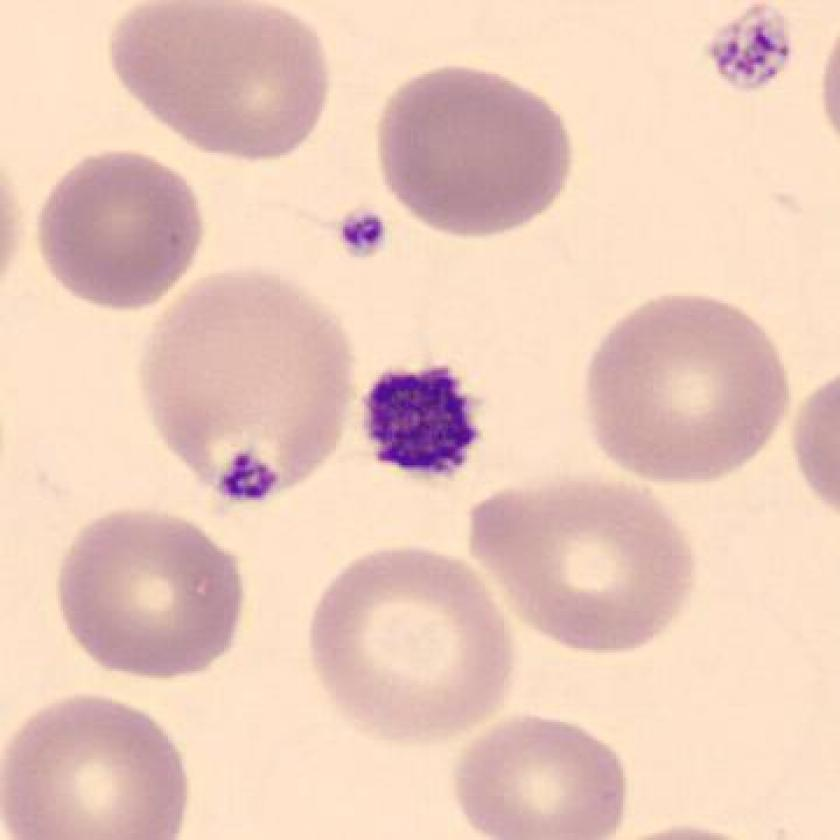platelets: (349, 355, 493, 489), (699, 1, 804, 101), (195, 438, 295, 522), (328, 200, 398, 272)
